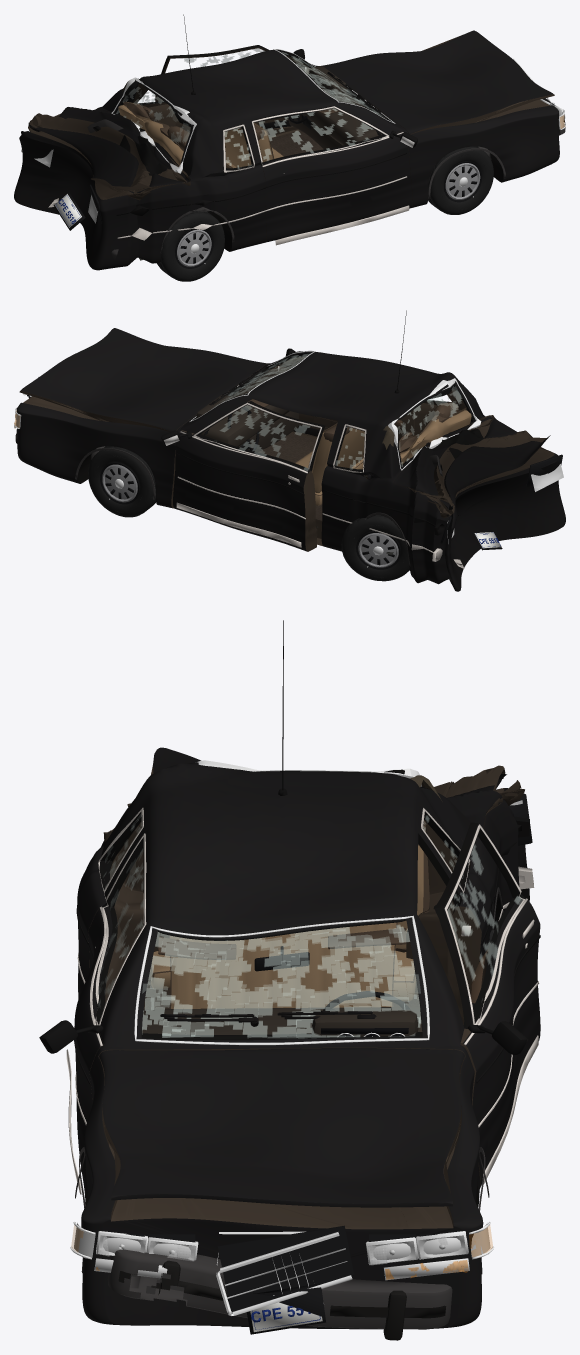
File: coupe84_rear_d2_lod1.glb
3 renders of one model, top to bottom at view 1: azimuth 30°, elevation 25°; view 2: azimuth 150°, elevation 25°; view 3: azimuth 270°, elevation 25°, orthographic. The views are drawn at different scales.
Visible parts, largest first — view 1: Body, Hood, Door_FR, Trunk, Interior, Wheel_RR_mesh, Wheel_FR_mesh, Glass, Trim_FR, Trim, Ends, Glass_FR (+1 smaller); view 2: Body, Hood, Door_FL, Interior, Trunk, Wheel_FL_mesh, Wheel_RL_mesh, Glass, Trim_FL, Trim, Ends, Glass_FL (+1 smaller); view 3: Body, Hood, Interior, Glass, Ends, Door_FL, Bumper_F, Door_FR, Trim_FL, Trim, Trunk, Trim_FR (+3 smaller).
Boxes of the visible parts, x1,y1,x2,y2 form: Body: (14,49,559,270); Hood: (321,30,554,134); Door_FR: (251,105,412,242); Trunk: (28,107,187,193); Interior: (118,66,381,168); Wheel_RR_mesh: (157,211,224,281); Wheel_FR_mesh: (428,146,493,214); Glass: (111,49,395,173); Trim_FR: (252,106,417,245); Trim: (116,14,506,253); Ends: (21,58,565,230); Glass_FR: (252,107,385,167); Body: (17,351,565,591); Hood: (19,328,267,431); Door_FL: (173,401,325,551); Interior: (196,371,471,505); Trunk: (393,417,550,509); Wheel_FL_mesh: (88,446,155,517); Wheel_RL_mesh: (341,515,409,581); Glass: (189,350,481,473); Trim_FL: (161,402,321,547); Trim: (75,310,444,566); Ends: (14,376,563,550); Glass_FL: (197,402,322,474); Body: (77,762,529,1329); Hood: (99,1048,465,1207); Interior: (142,820,429,1037); Glass: (103,760,469,1045); Ends: (70,793,532,1334); Door_FL: (433,822,540,1187); Bumper_F: (107,1249,452,1340); Door_FR: (74,832,147,1187); Trim_FL: (444,824,540,1183); Trim: (75,620,534,1273); Trunk: (109,747,506,833); Trim_FR: (39,833,146,1194).
Bounding box in the file's own units: 4.82 × 2.18 × 2.18.
33 materials, 5 textured.
